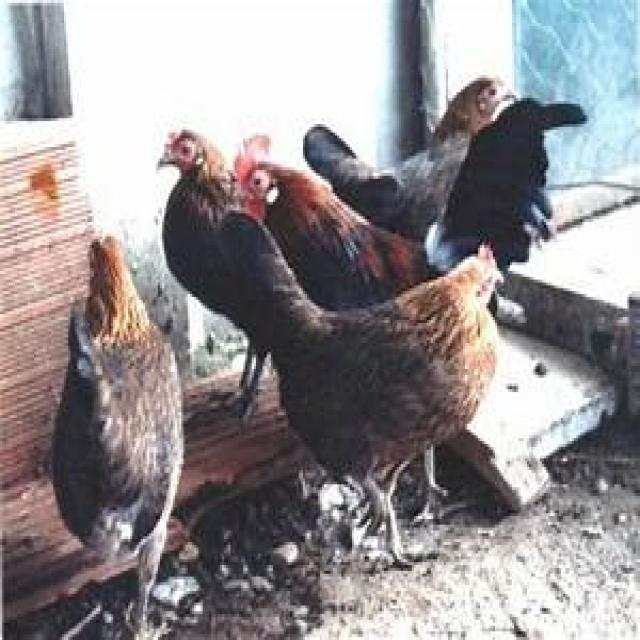animal: (201, 198, 519, 516), (313, 64, 618, 228), (54, 217, 164, 587), (150, 82, 298, 208)
